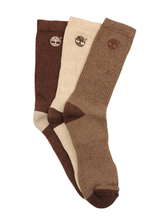sock: (31, 19, 140, 205)
